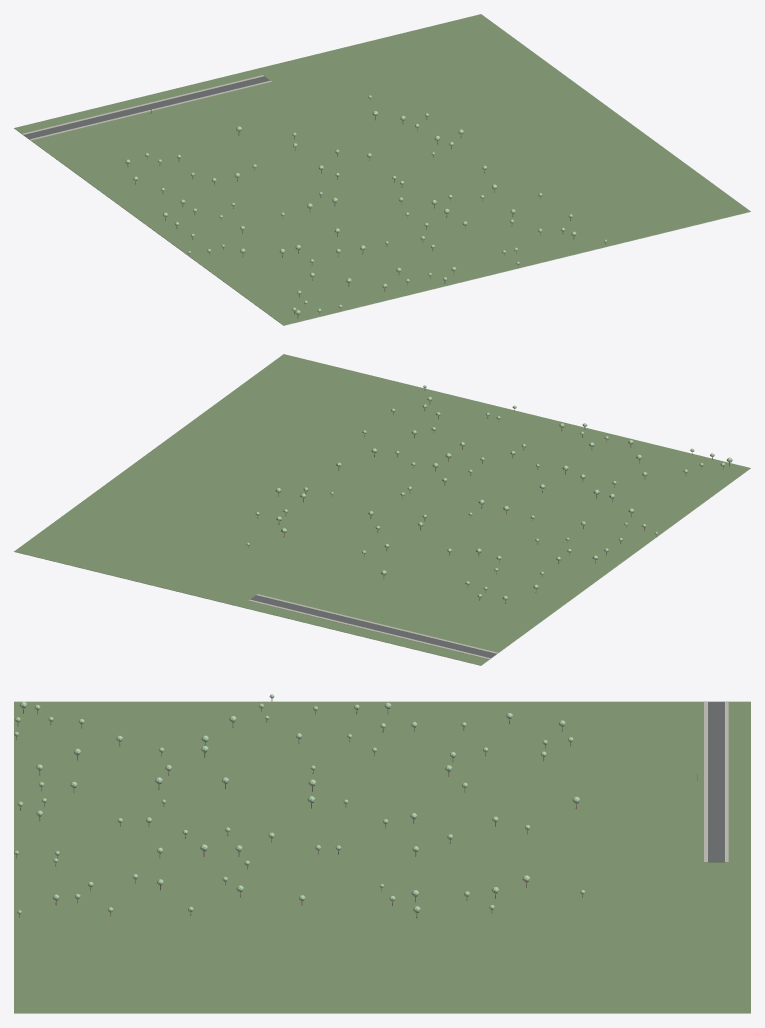
Rendered from chunk_7_2_high.glb.
3 renders of one model, top to bottom at view 1: azimuth 30°, elevation 25°; view 2: azimuth 150°, elevation 25°; view 3: azimuth 270°, elevation 25°, orthographic. The views are drawn at different scales.
Visible parts, largest first — view 1: city_forest_floor, city_world_asphalt, city_foliage, city_world_sidewalk, city_grass, city_foliage_dark; view 2: city_forest_floor, city_world_asphalt, city_foliage, city_world_sidewalk, city_grass, city_foliage_dark; view 3: city_forest_floor, city_world_asphalt, city_foliage, city_world_sidewalk, city_foliage_dark, city_grass, city_bark.
Part boxes in pixels (<box>): city_forest_floor: <box>14,14,750,325</box>; city_world_asphalt: <box>24,76,269,139</box>; city_foliage: <box>126,95,606,314</box>; city_world_sidewalk: <box>22,75,271,140</box>; city_grass: <box>14,128,750,325</box>; city_foliage_dark: <box>125,96,604,314</box>; city_forest_floor: <box>14,354,750,665</box>; city_world_asphalt: <box>250,595,496,658</box>; city_foliage: <box>246,385,731,600</box>; city_world_sidewalk: <box>248,594,497,659</box>; city_grass: <box>14,468,750,665</box>; city_foliage_dark: <box>246,386,732,599</box>; city_forest_floor: <box>14,701,750,1012</box>; city_world_asphalt: <box>708,701,724,862</box>; city_foliage: <box>14,694,585,914</box>; city_world_sidewalk: <box>704,701,728,862</box>; city_foliage_dark: <box>15,696,584,913</box>; city_grass: <box>14,1013,750,1013</box>; city_bark: <box>16,699,582,918</box>.
Bounding box in the file's own units: 514 × 9.81 × 512.
